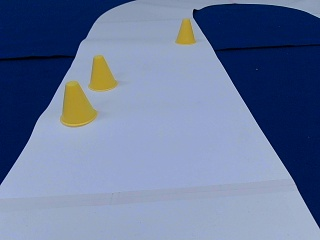cone: (60, 82, 98, 125), (87, 56, 118, 91), (175, 19, 195, 44)
